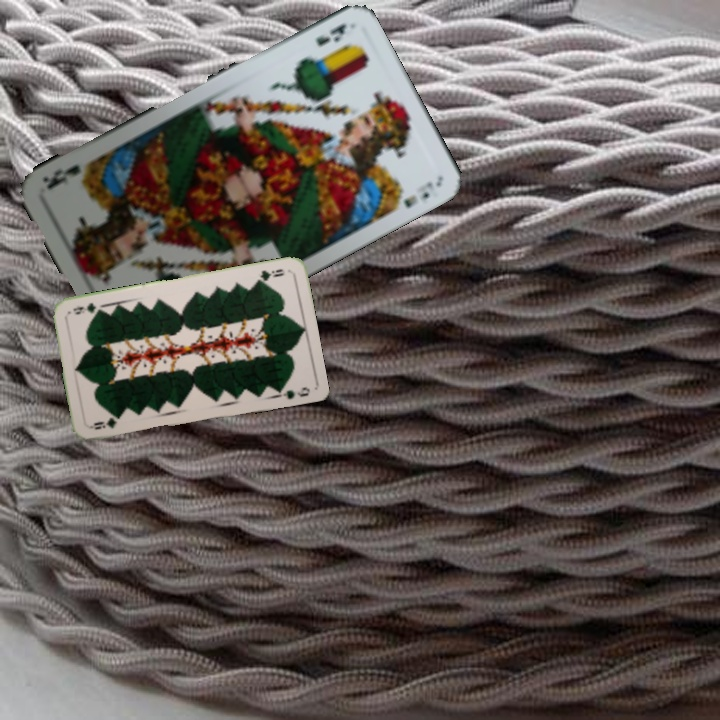EK: (311, 19, 350, 49)
G9: (252, 265, 286, 285), (87, 415, 119, 432)
